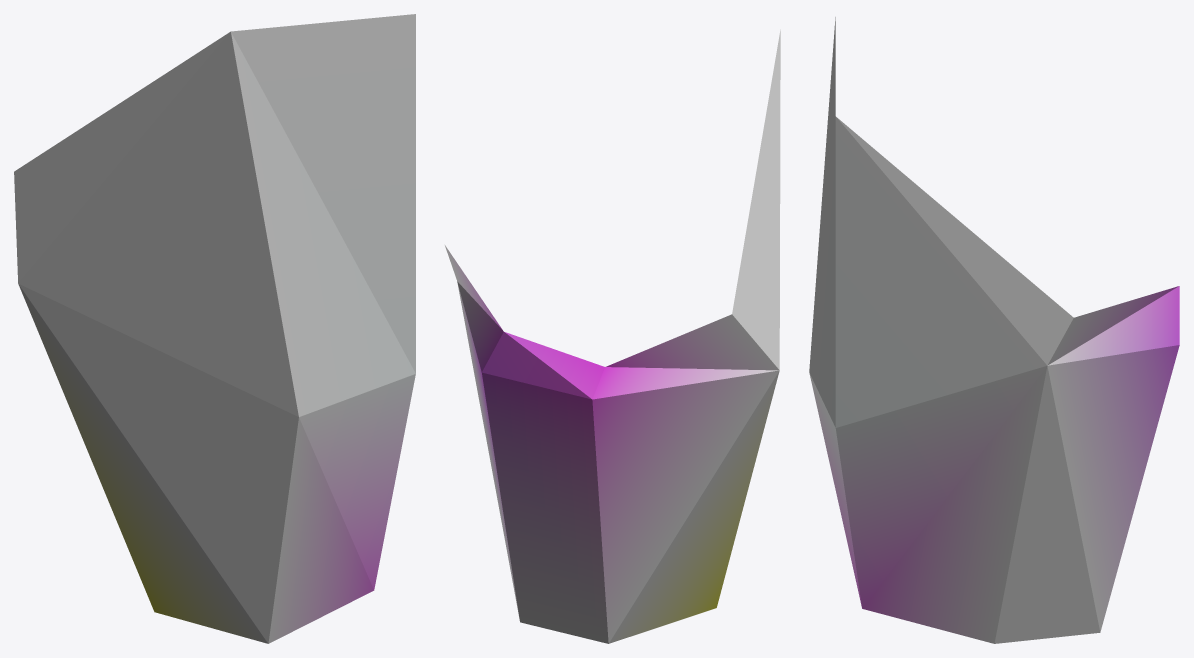
3 views of the same model, side by side, from view 1: azimuth 30°, elevation 25°; view 2: azimuth 150°, elevation 25°; view 3: azimuth 270°, elevation 25° (orthographic). The views are drawn at different scales.
Parts seen in each view (by area): view 1: model_112B; view 2: model_112B; view 3: model_112B.
Part boxes in pixels (x1=…): model_112B: x1=14, y1=14, x2=415, y2=643; model_112B: x1=445, y1=29, x2=780, y2=643; model_112B: x1=809, y1=17, x2=1179, y2=643.
Bounding box in the file's own units: 14 × 23 × 14.
